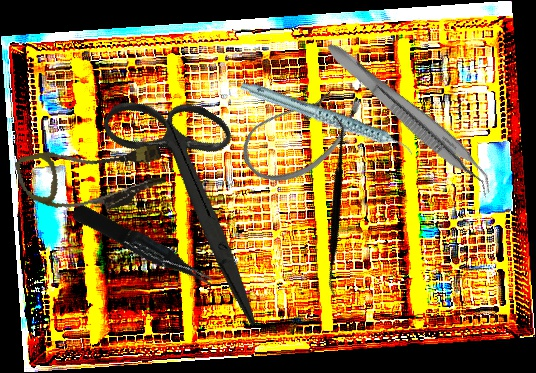Cannula: (231, 62, 374, 201), (13, 126, 171, 228)
Handpiece: (238, 49, 416, 191)
Iris Scissors: (53, 66, 338, 327)
Spatula Surgical: (254, 113, 415, 300)
Tissue Forceps: (316, 38, 504, 199), (70, 197, 216, 297)
